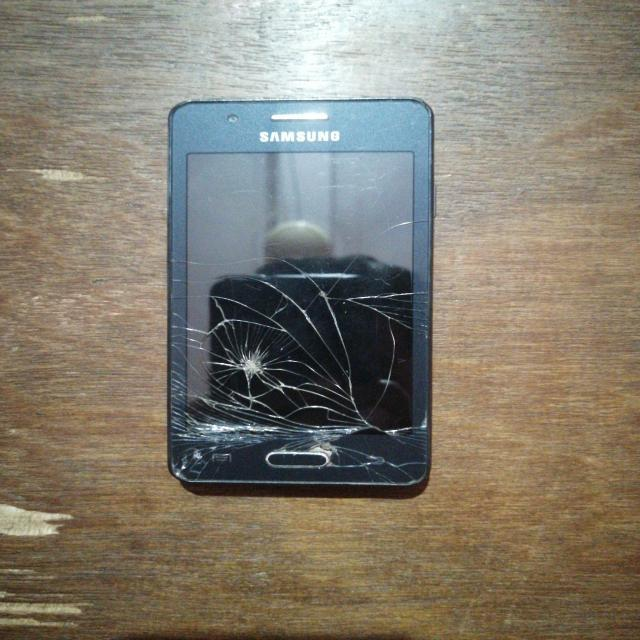screen crack: (159, 200, 444, 506)
